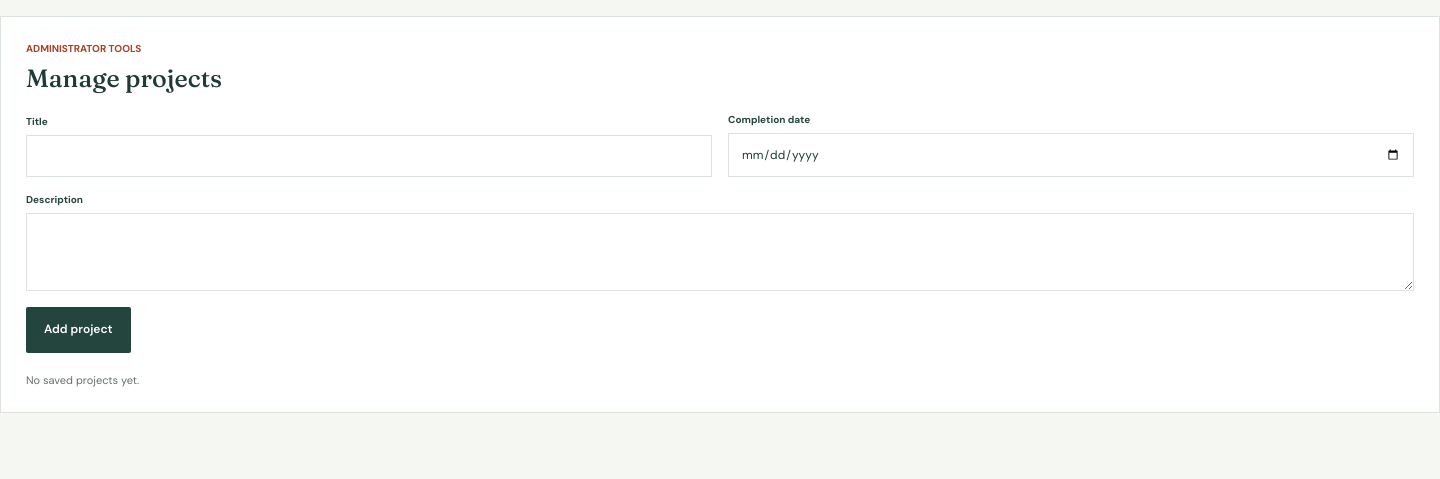
Test: AdminRecordManager behavior › displays an alert message when the API request fails
Type "Test Item" into the field labelled "Title". click: (369, 156)
box: [26,135,712,177]
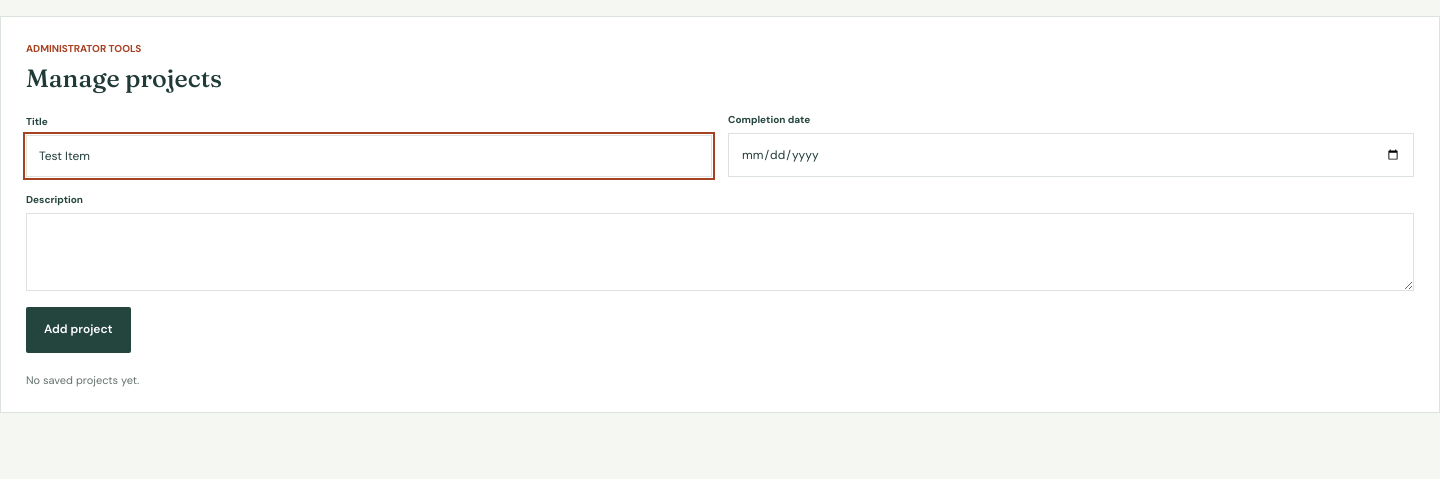
Type "2026-11-25" into the date field labelled "Completion date". click: (1071, 155)
box: [728,133,1414,177]
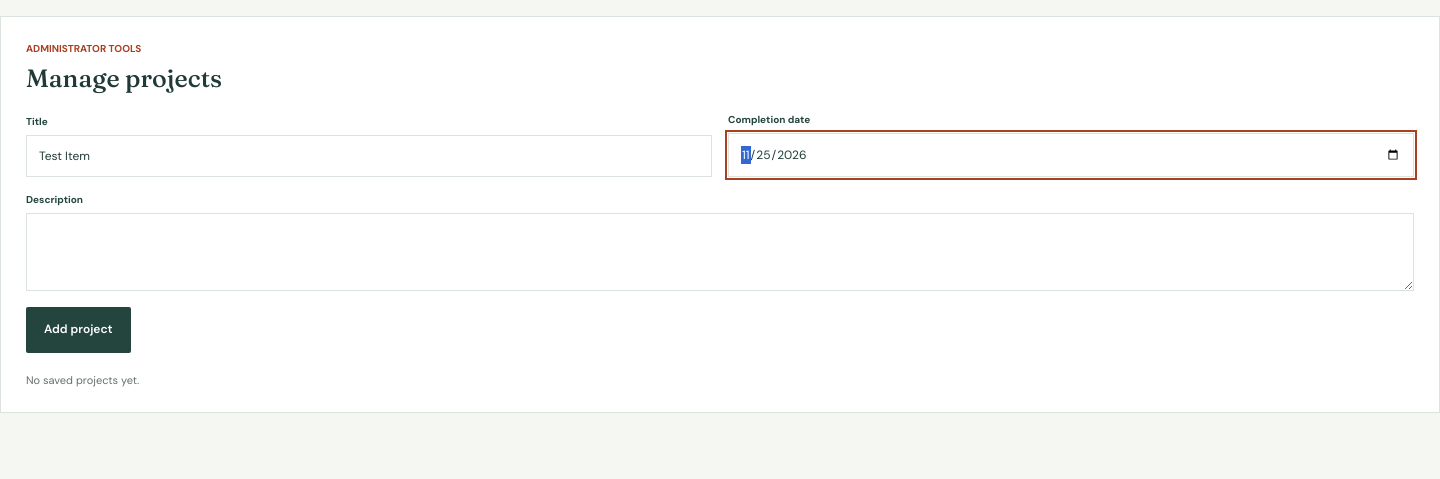
Type "Testing error banner" into the text box labelled "Description". click: (720, 252)
box: [26,213,1414,291]
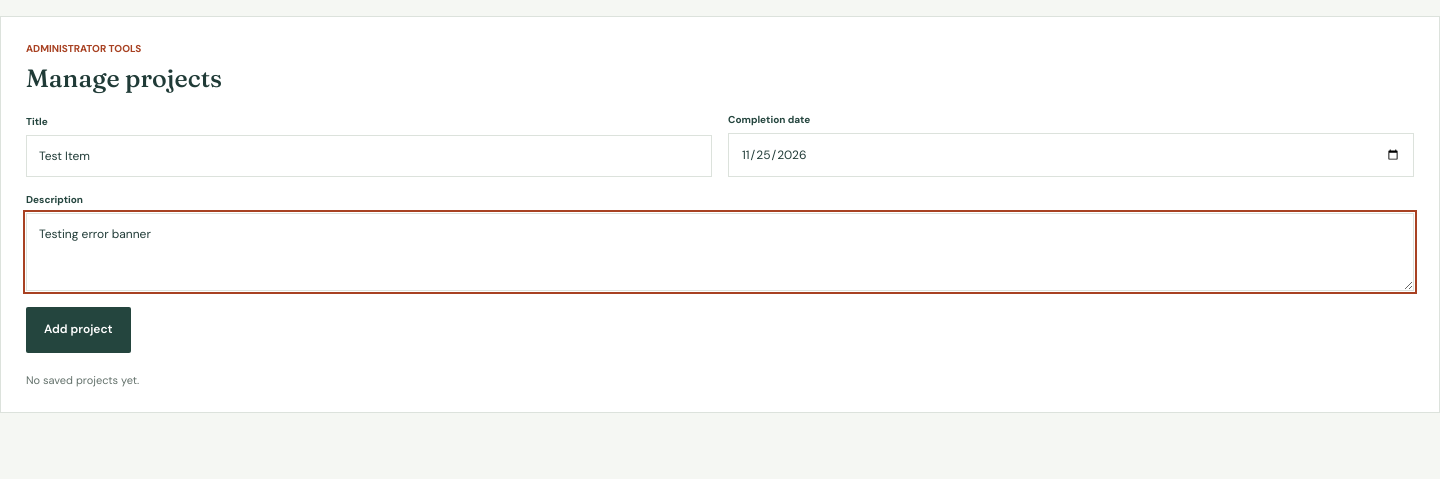
Click the button "Add project". click: (78, 330)
box: [26,307,130,353]
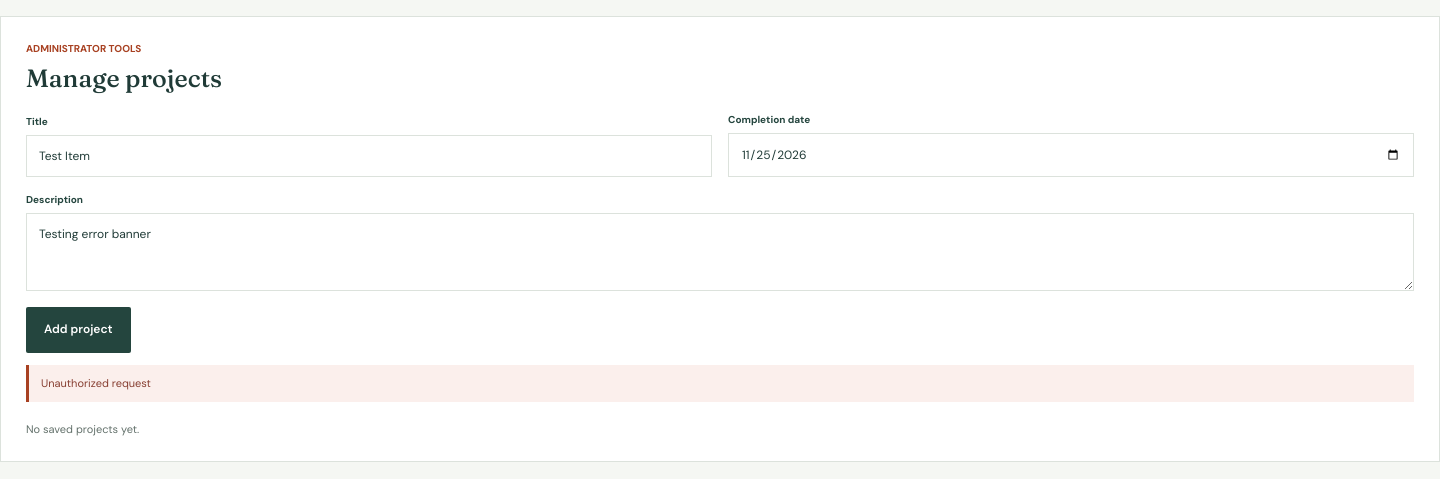
Result: the message reads "Unauthorized request" at [41,376,151,390]
